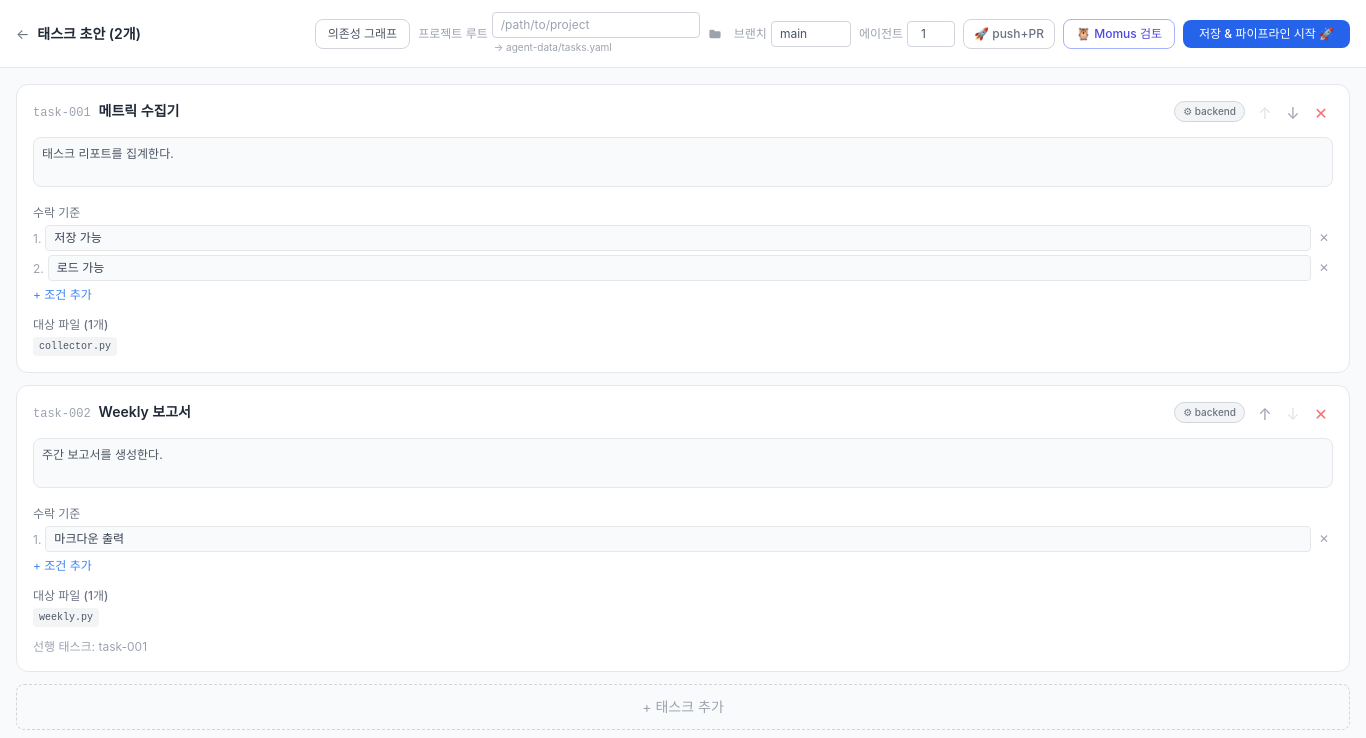
Test: TaskDraftPanel › "태스크 추가" 버튼으로 빈 태스크를 추가할 수 있어야 한다
Click the button "+ 태스크 추가" at [683, 707], box [16, 684, 1350, 730]
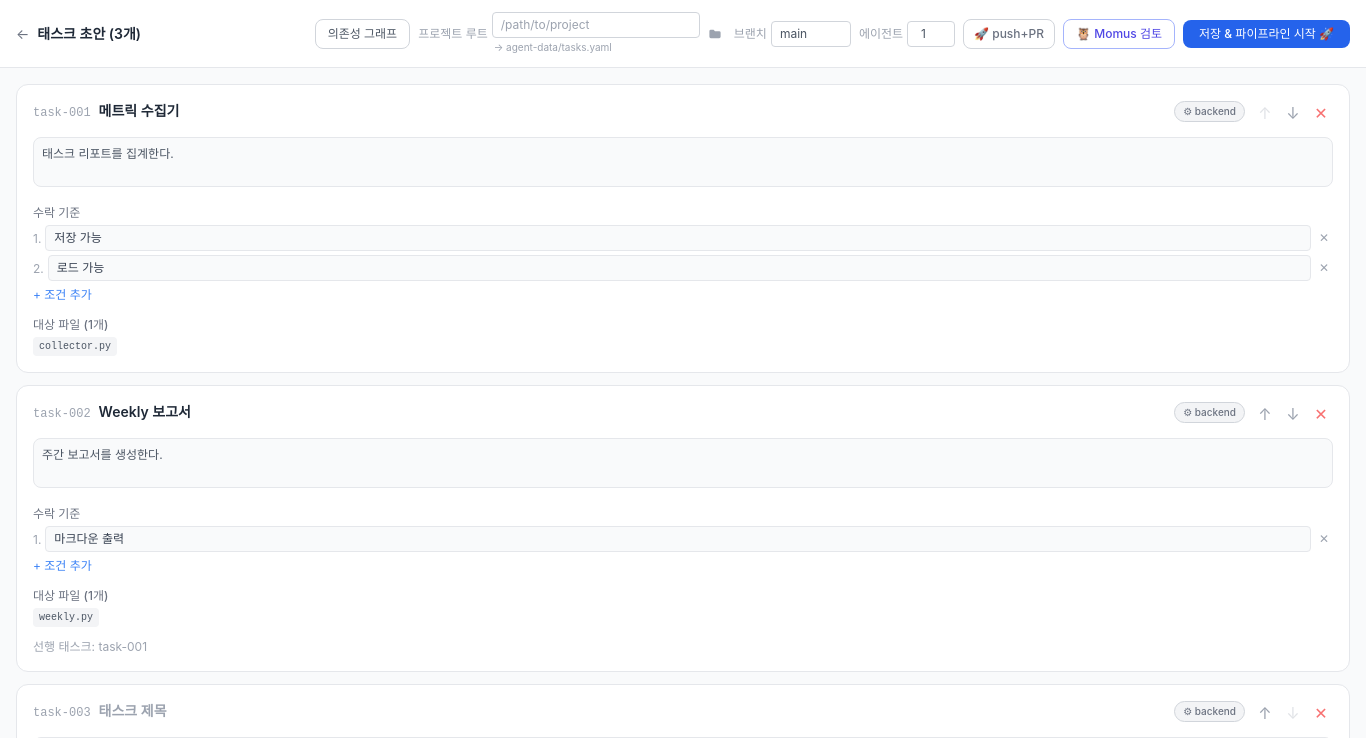
Check: the text "태스크 초안 (3개)" is shown, box [37, 24, 141, 44]
